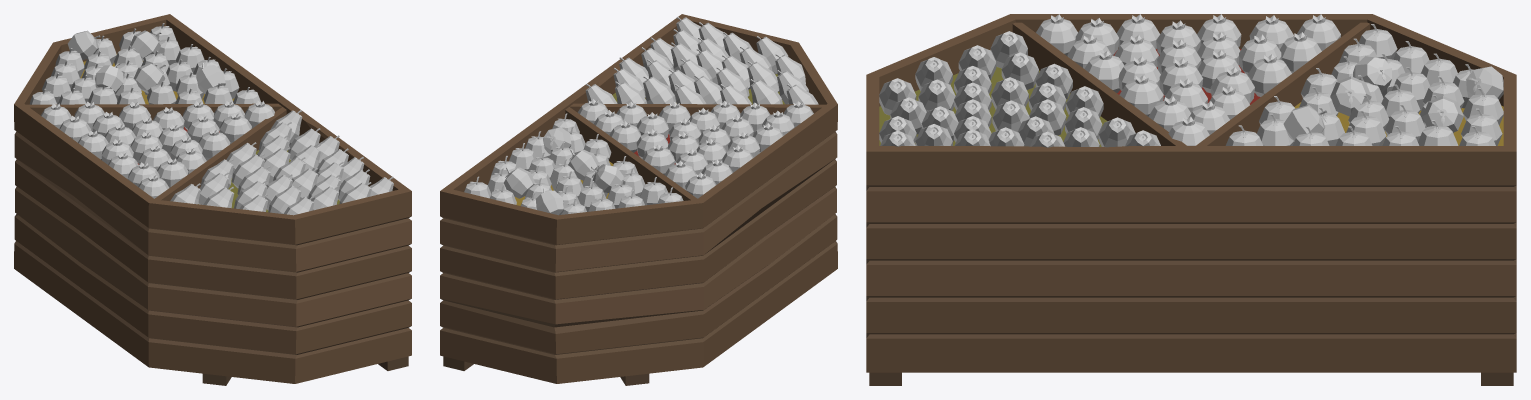
The model's file is SM_Props_Interior_SuperMarket_FruitDisplay_Preset_02.fbx.
The picture shows the model from 3 angles, left to right: view 1: azimuth 30°, elevation 25°; view 2: azimuth 150°, elevation 25°; view 3: azimuth 270°, elevation 25°; orthographic projection. The views are drawn at different scales.
Visible parts, largest first — view 1: SM_Props_Interior_SuperMarket_FruitDisplay_Preset_02, SM_Props_Interior_SuperMarket_FruitDisplay_Preset_02_Fruit; view 2: SM_Props_Interior_SuperMarket_FruitDisplay_Preset_02, SM_Props_Interior_SuperMarket_FruitDisplay_Preset_02_Fruit; view 3: SM_Props_Interior_SuperMarket_FruitDisplay_Preset_02, SM_Props_Interior_SuperMarket_FruitDisplay_Preset_02_Fruit.
Part boxes in pixels (x1,y1,x2,y2): SM_Props_Interior_SuperMarket_FruitDisplay_Preset_02: (14,14,411,385); SM_Props_Interior_SuperMarket_FruitDisplay_Preset_02_Fruit: (29,23,393,215); SM_Props_Interior_SuperMarket_FruitDisplay_Preset_02: (440,14,837,385); SM_Props_Interior_SuperMarket_FruitDisplay_Preset_02_Fruit: (464,16,818,215); SM_Props_Interior_SuperMarket_FruitDisplay_Preset_02: (866,14,1516,385); SM_Props_Interior_SuperMarket_FruitDisplay_Preset_02_Fruit: (879,14,1503,147).
Bounding box in the file's own units: 100 × 86.82 × 200.
